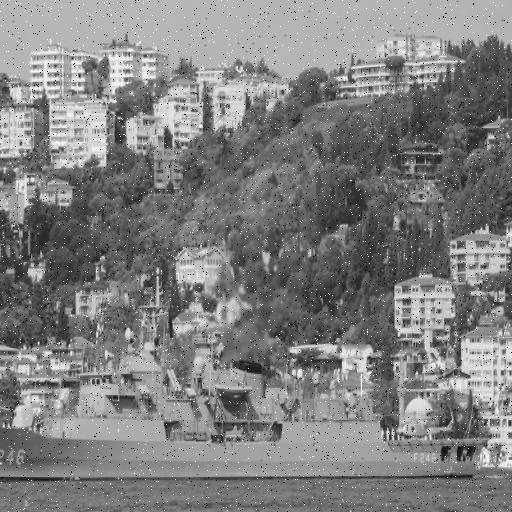Fragata: (1, 253, 488, 489)
